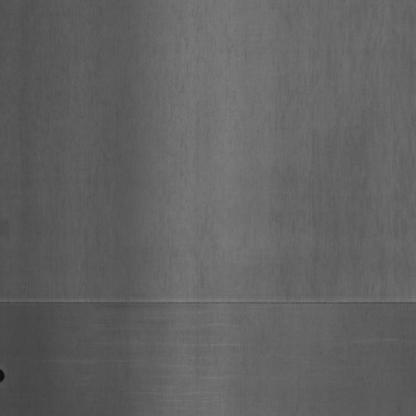punching_hole: (0, 365, 6, 383)
welding_line: (0, 296, 415, 318)
